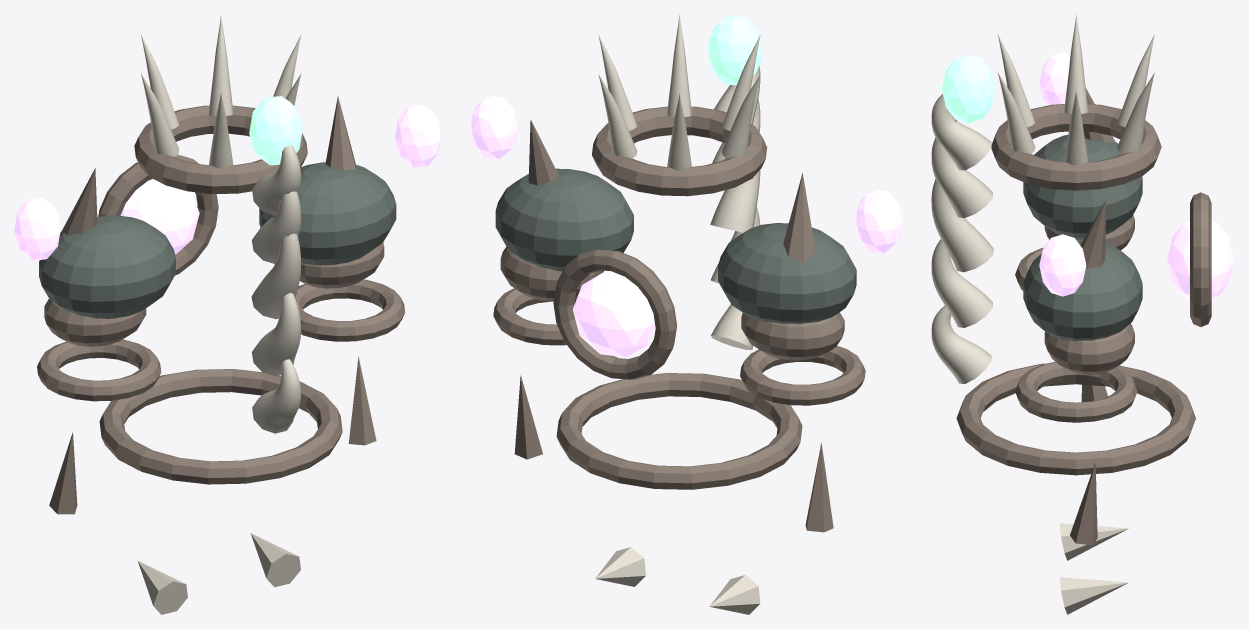
Rendered from mob_boss-decor.glb.
3 renders of one model, left to right at view 1: azimuth 30°, elevation 25°; view 2: azimuth 150°, elevation 25°; view 3: azimuth 270°, elevation 25°, orthographic. The views are drawn at different scales.
Parts seen in each view (by area): view 1: mob_boss_decor; view 2: mob_boss_decor; view 3: mob_boss_decor.
Boxes of the visible parts, x1=… form: mob_boss_decor: x1=14, y1=14, x2=441, y2=614; mob_boss_decor: x1=470, y1=14, x2=902, y2=614; mob_boss_decor: x1=931, y1=15, x2=1234, y2=614.
Size of the model in its own units: 0.7066 by 0.8718 by 0.4502.
